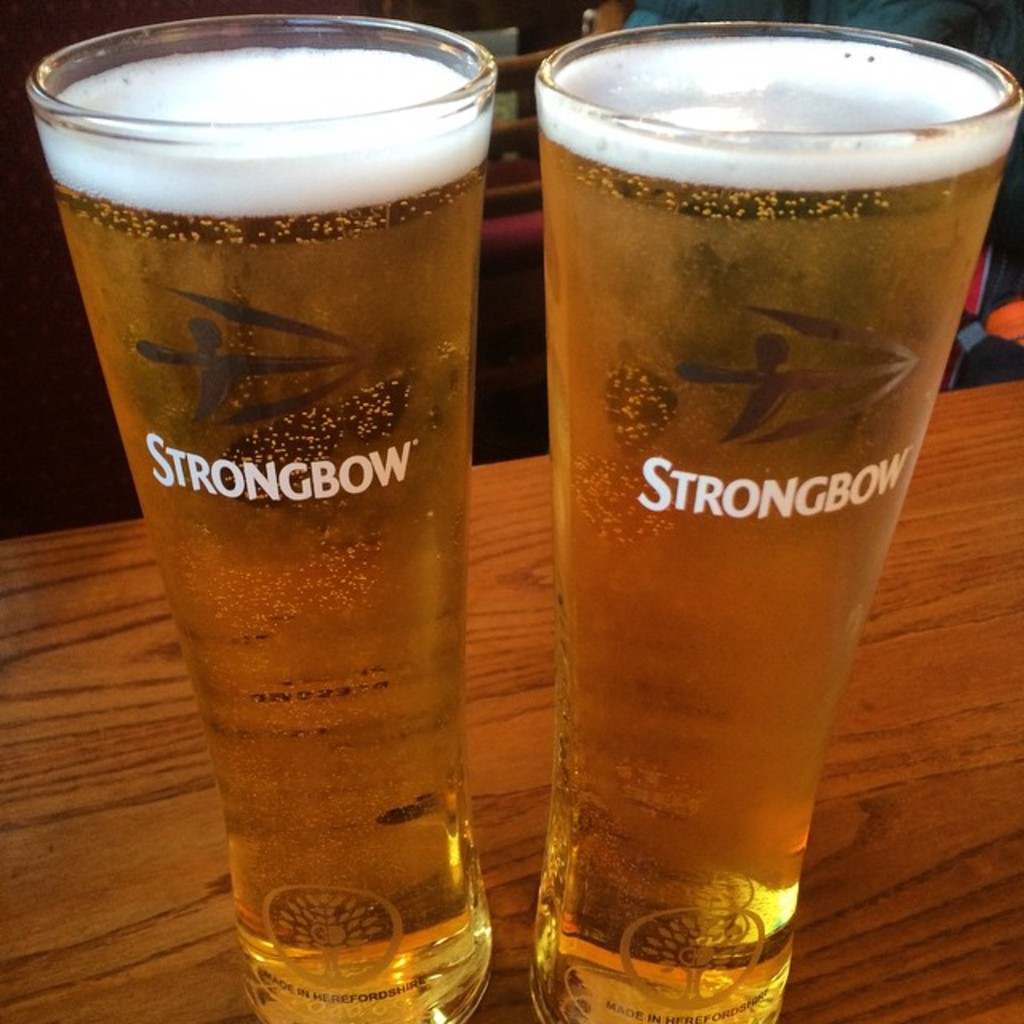Beer: (533, 18, 1024, 1024), (25, 14, 497, 1024)
